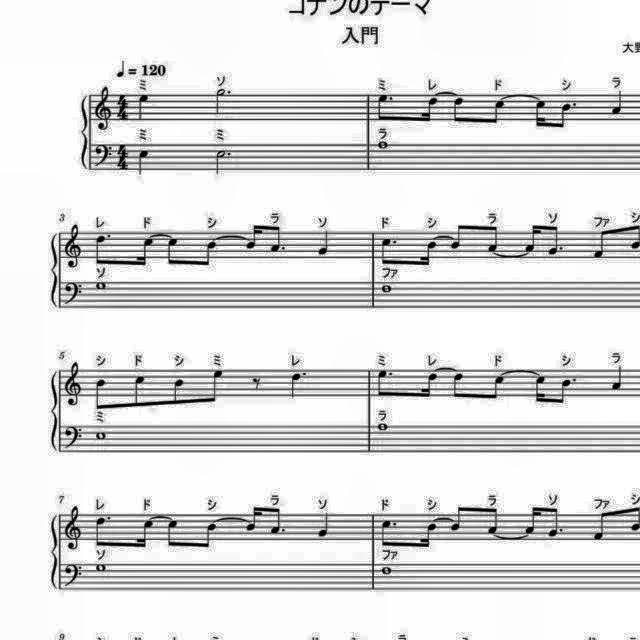Bass-clef: (92, 142, 116, 172), (62, 277, 86, 307), (62, 422, 86, 452), (62, 560, 86, 588)
Eighth-note: (200, 366, 228, 409), (554, 96, 578, 132), (91, 230, 113, 268), (91, 512, 113, 550), (130, 371, 150, 412), (198, 518, 222, 552), (266, 505, 290, 539), (554, 374, 578, 408), (198, 236, 222, 270), (544, 505, 566, 541), (543, 223, 565, 259), (379, 514, 401, 550), (162, 229, 182, 267), (378, 233, 400, 267), (374, 367, 396, 401), (374, 90, 396, 124), (162, 518, 182, 554), (487, 96, 509, 128), (486, 372, 508, 404), (90, 377, 108, 415), (168, 374, 188, 408), (591, 229, 611, 263), (268, 220, 288, 254), (591, 510, 611, 544), (449, 94, 469, 126), (449, 370, 469, 402), (484, 222, 504, 254), (448, 221, 468, 253), (448, 504, 468, 536), (484, 506, 504, 536), (627, 222, 640, 253), (627, 502, 640, 533), (639, 222, 640, 253), (639, 502, 640, 533)
Eighth-rest: (248, 374, 264, 394)
Full-note: (93, 558, 111, 576), (373, 419, 391, 436), (378, 564, 396, 576), (94, 278, 108, 292), (376, 139, 392, 151), (379, 282, 395, 294), (94, 430, 108, 442)
Half-dot: (210, 86, 233, 118), (212, 146, 234, 177)
Quarter-dot: (286, 368, 310, 400)
Quarter-note: (316, 227, 336, 257), (314, 510, 334, 540), (608, 365, 626, 393), (608, 90, 626, 118), (136, 93, 152, 123), (136, 147, 152, 177)
Sixteenth-note: (131, 232, 157, 272), (133, 515, 159, 553), (416, 237, 440, 271), (418, 368, 442, 400), (418, 519, 440, 553), (532, 94, 552, 130), (420, 96, 442, 128), (239, 502, 261, 534), (524, 219, 544, 253), (534, 370, 552, 406), (522, 504, 542, 536), (240, 220, 260, 252)
Treble-clef: (62, 504, 88, 554), (62, 357, 86, 407), (62, 219, 86, 269), (92, 84, 115, 132)
